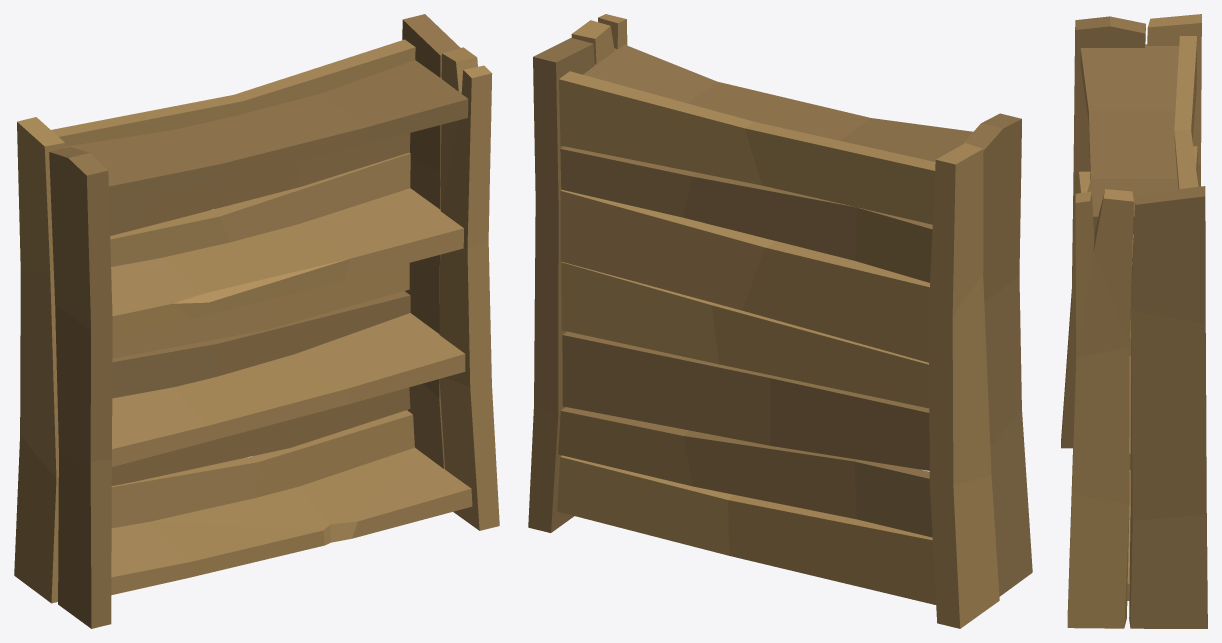
Rendered from Bookshelf_1.gltf.
3 renders of one model, left to right at view 1: azimuth 30°, elevation 25°; view 2: azimuth 150°, elevation 25°; view 3: azimuth 270°, elevation 25°, orthographic. The views are drawn at different scales.
Parts seen in each view (by area): view 1: Bookshelf_12; view 2: Bookshelf_12; view 3: Bookshelf_12.
Part boxes in pixels (left/top/right/bottom): Bookshelf_12: left=14, top=14, right=499, bottom=628; Bookshelf_12: left=528, top=14, right=1032, bottom=628; Bookshelf_12: left=1061, top=14, right=1207, bottom=628.
Size of the model in its own units: 0.5412 by 0.568 by 0.1752.
Materials: 1 (1 with a texture image).
